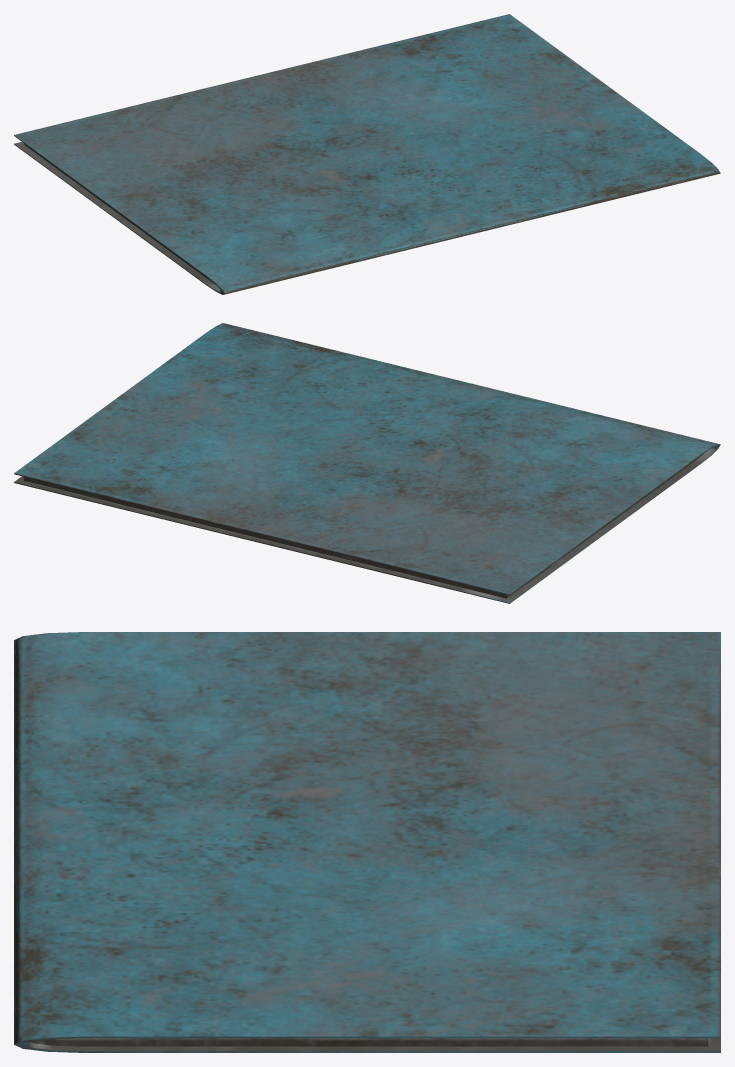
File: SM_Book_5.fbx
The picture shows the model from 3 angles, top to bottom: view 1: azimuth 30°, elevation 25°; view 2: azimuth 150°, elevation 25°; view 3: azimuth 270°, elevation 25°; orthographic projection. The views are drawn at different scales.
Parts seen in each view (by area): view 1: SM_Book_5_LOD0; view 2: SM_Book_5_LOD0; view 3: SM_Book_5_LOD0.
Boxes of the visible parts, box(x1,y1,x2,y2) form: SM_Book_5_LOD0: box(14, 14, 720, 294); SM_Book_5_LOD0: box(14, 323, 720, 603); SM_Book_5_LOD0: box(14, 632, 720, 1052).
Bounding box in the file's own units: 23.34 × 17.24 × 0.4328.
Materials: 1 (1 with a texture image).
